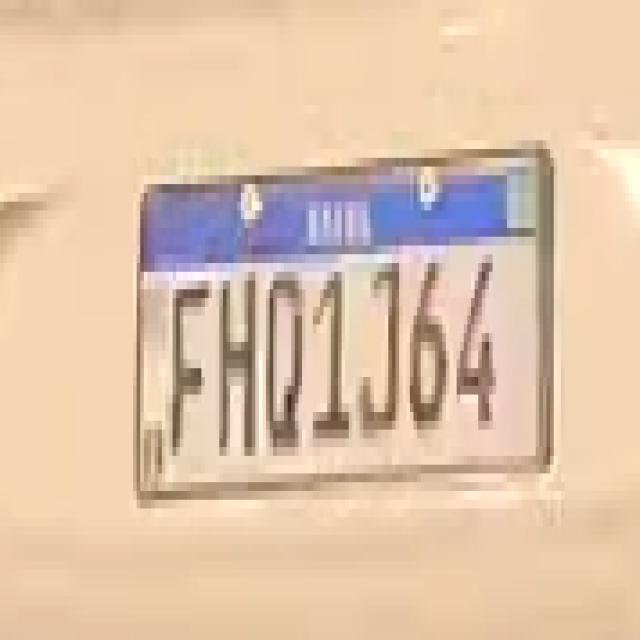Placa_mercosul_carro: (136, 145, 551, 501)
